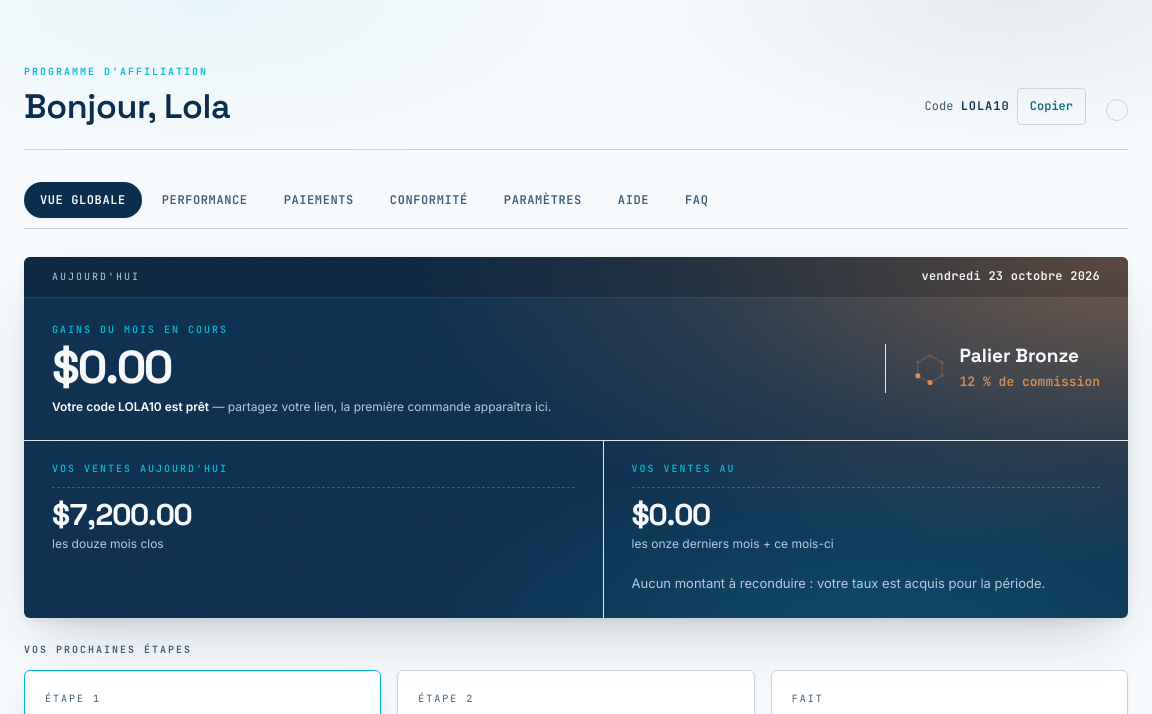
Scenario: le détail d'un versement › un écart avec le montant versé est MONTRÉ, pas tu
Click the button with test id "affiliate-tab-payments": (319, 200) [268,182,370,218]
(page scrolled)
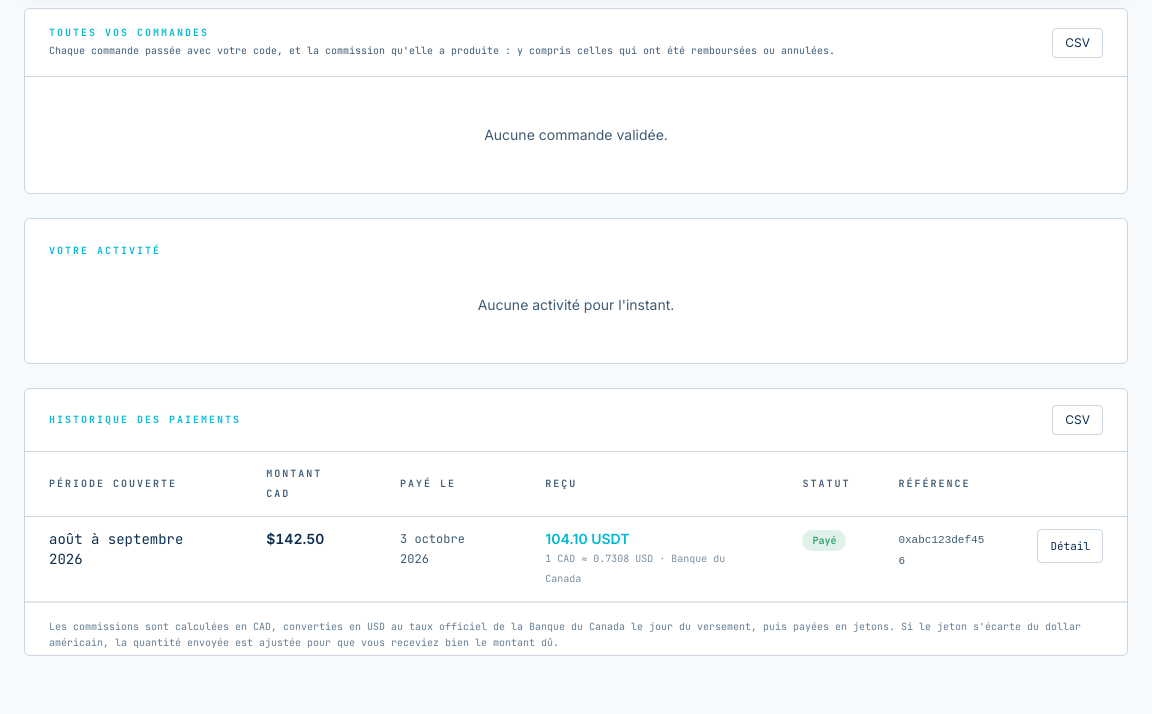
Click the button with test id "detail-bouton-table-pay-1": (1070, 546) [1037,529,1103,563]
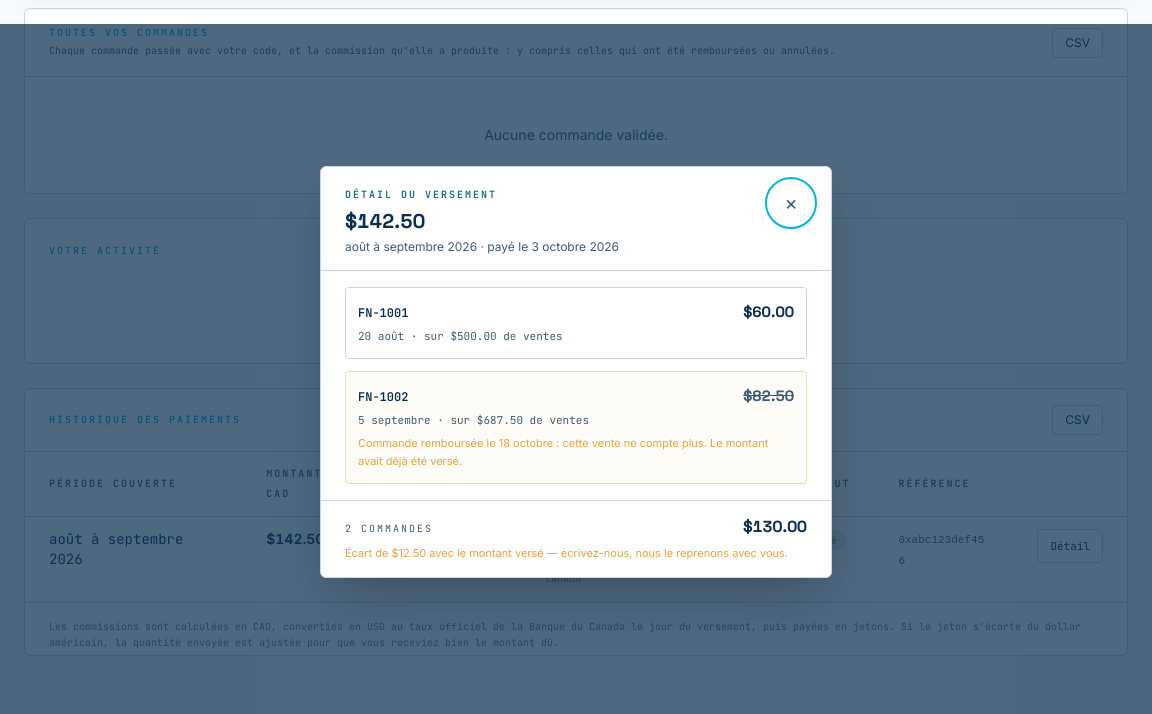
Expected: the text with test id "detail-ecart" shows "12.50", [345,546,788,560]
